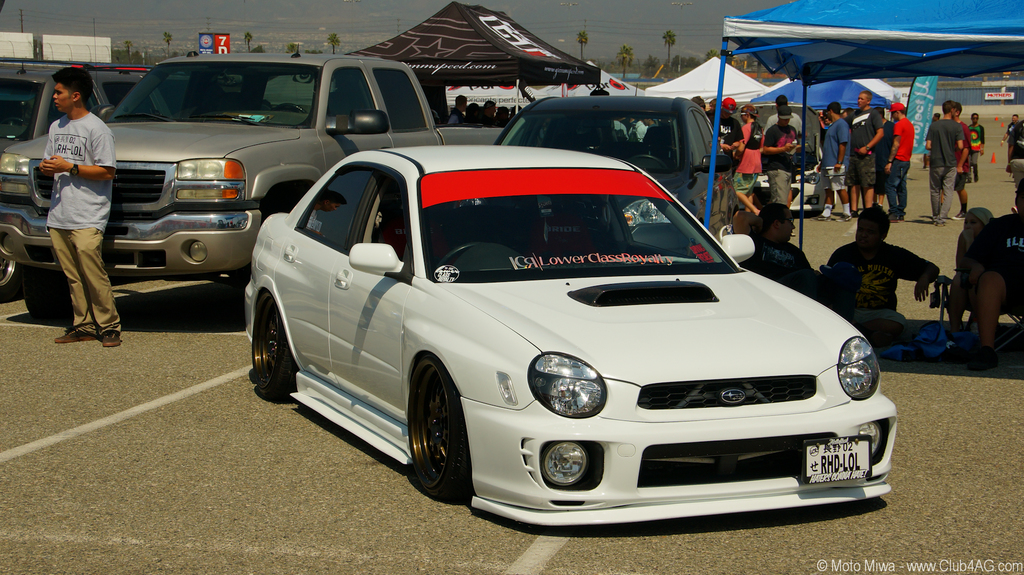mobil: (223, 145, 901, 538)
